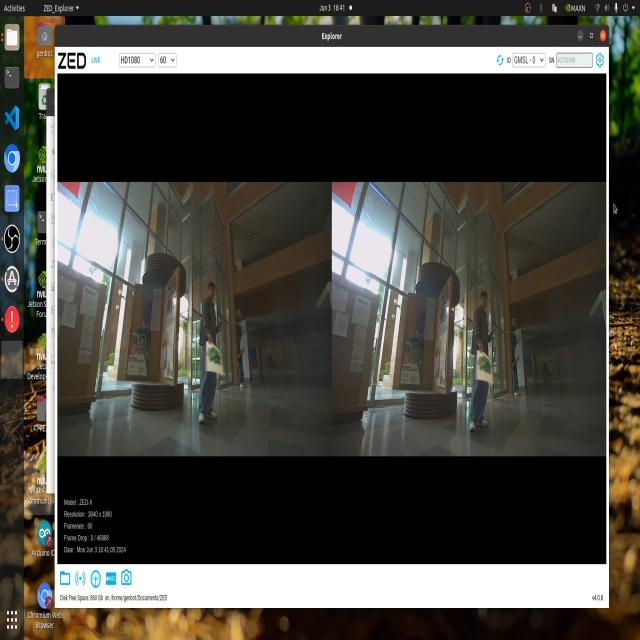green: (202, 336, 226, 369), (475, 353, 491, 382)
